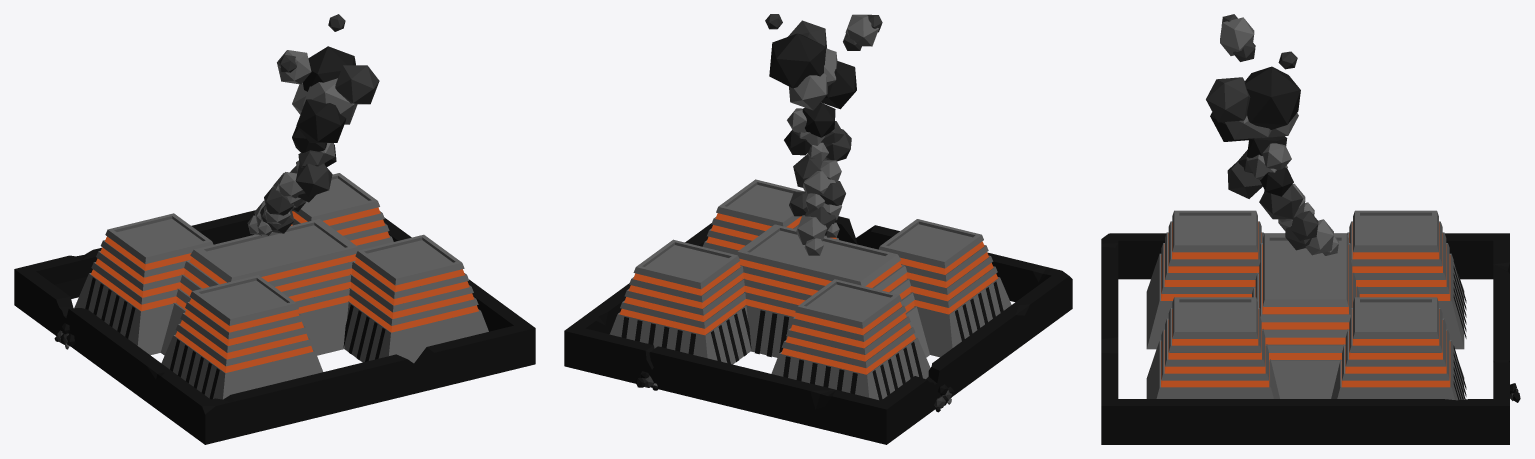
Rendered from base_destroyed.glb.
The picture shows the model from 3 angles, left to right: view 1: azimuth 30°, elevation 25°; view 2: azimuth 150°, elevation 25°; view 3: azimuth 270°, elevation 25°; orthographic projection. The views are drawn at different scales.
Visible parts, largest first — view 1: Plane.027, Cube.008, Cube.007, Cube.009, Cube.005, Cube.006, Icosphere.042, Icosphere.043, Icosphere.044, Icosphere.041, Icosphere.046, Plane.026 (+4 smaller); view 2: Plane.027, Cube.005, Cube.006, Cube.009, Cube.008, Cube.007, Icosphere.044, Icosphere.042, Icosphere.040, Icosphere.036, Plane.021, Icosphere.037 (+10 smaller); view 3: Plane.027, Cube.009, Cube.007, Cube.006, Cube.008, Cube.005, Icosphere.044, Icosphere.043, Icosphere.030, Icosphere.037, Icosphere.046, Icosphere.033 (+6 smaller).
Part boxes in pixels (x1,y1,x2,y2): Plane.027: (14,210,535,444); Cube.008: (161,275,322,399); Cube.007: (344,234,488,363); Cube.009: (160,219,359,355); Cube.005: (74,213,213,355); Cube.006: (254,173,393,249); Icosphere.042: (296,99,346,142); Icosphere.043: (335,65,379,104); Icosphere.044: (303,46,355,91); Icosphere.041: (303,78,357,124); Icosphere.046: (295,163,332,197); Plane.026: (343,304,385,361); Plane.027: (564,216,1072,444); Cube.005: (771,279,930,399); Cube.006: (609,239,750,364); Cube.009: (735,224,929,357); Cube.008: (878,219,1011,357); Cube.007: (702,179,838,254); Icosphere.044: (769,33,826,88); Icosphere.042: (821,61,856,109); Icosphere.040: (789,73,827,110); Icosphere.036: (802,102,835,137); Plane.021: (872,341,922,400); Icosphere.037: (845,14,878,46); Plane.027: (1101,233,1509,444); Cube.009: (1252,233,1359,398); Cube.007: (1146,297,1279,398); Cube.006: (1331,297,1464,400); Cube.008: (1146,210,1264,349); Cube.005: (1347,210,1464,349); Icosphere.044: (1245,66,1300,129); Icosphere.043: (1206,77,1250,122); Icosphere.030: (1259,184,1303,219); Icosphere.037: (1220,17,1254,55); Icosphere.046: (1227,161,1262,198); Icosphere.033: (1260,167,1293,196).
Size of the model in its own units: 1.94 by 1.72 by 1.95.
